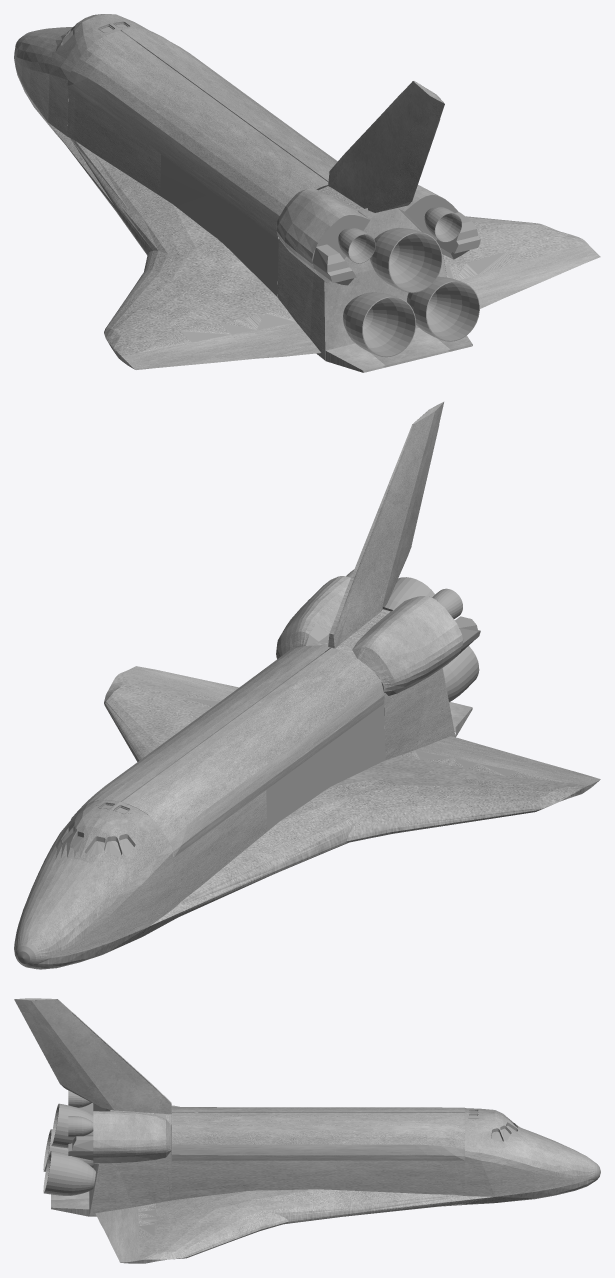
The model's file is STS.obj.
3 renders of one model, top to bottom at view 1: azimuth 30°, elevation 25°; view 2: azimuth 150°, elevation 25°; view 3: azimuth 270°, elevation 25°, orthographic. The views are drawn at different scales.
Parts seen in each view (by area): view 1: Shape_IndexedFaceSet.014_Shape_IndexedFaceSet.048, Shape_IndexedFaceSet.023_Shape_IndexedFaceSet.057, Shape_IndexedFaceSet.003_Shape_IndexedFaceSet.037, Shape_IndexedFaceSet.012_Shape_IndexedFaceSet.046, Shape_IndexedFaceSet.018_Shape_IndexedFaceSet.052, Shape_IndexedFaceSet.028_Shape_IndexedFaceSet.062, Shape_IndexedFaceSet.010_Shape_IndexedFaceSet.044, Shape_IndexedFaceSet.004_Shape_IndexedFaceSet.038, Shape_IndexedFaceSet.007_Shape_IndexedFaceSet.041, Shape_IndexedFaceSet.019_Shape_IndexedFaceSet.053, Shape_IndexedFaceSet.022_Shape_IndexedFaceSet.056, Shape_IndexedFaceSet.020_Shape_IndexedFaceSet.054 (+3 smaller); view 2: Shape_IndexedFaceSet.014_Shape_IndexedFaceSet.048, Shape_IndexedFaceSet.018_Shape_IndexedFaceSet.052, Shape_IndexedFaceSet.023_Shape_IndexedFaceSet.057, Shape_IndexedFaceSet.022_Shape_IndexedFaceSet.056, Shape_IndexedFaceSet.003_Shape_IndexedFaceSet.037, Shape_IndexedFaceSet.010_Shape_IndexedFaceSet.044, Shape_IndexedFaceSet.007_Shape_IndexedFaceSet.041, Shape_IndexedFaceSet.028_Shape_IndexedFaceSet.062, Shape_IndexedFaceSet.004_Shape_IndexedFaceSet.038, Shape_IndexedFaceSet.017_Shape_IndexedFaceSet.051, Shape_IndexedFaceSet.012_Shape_IndexedFaceSet.046, Shape_IndexedFaceSet.009_Shape_IndexedFaceSet.043 (+2 smaller); view 3: Shape_IndexedFaceSet.014_Shape_IndexedFaceSet.048, Shape_IndexedFaceSet.018_Shape_IndexedFaceSet.052, Shape_IndexedFaceSet.023_Shape_IndexedFaceSet.057, Shape_IndexedFaceSet.021_Shape_IndexedFaceSet.055, Shape_IndexedFaceSet.003_Shape_IndexedFaceSet.037, Shape_IndexedFaceSet.004_Shape_IndexedFaceSet.038, Shape_IndexedFaceSet.022_Shape_IndexedFaceSet.056, Shape_IndexedFaceSet.007_Shape_IndexedFaceSet.041, Shape_IndexedFaceSet.012_Shape_IndexedFaceSet.046, Shape_IndexedFaceSet.009_Shape_IndexedFaceSet.043, Shape_IndexedFaceSet.017_Shape_IndexedFaceSet.051, Shape_IndexedFaceSet.028_Shape_IndexedFaceSet.062 (+2 smaller).
Part boxes in pixels (bbox=[...]): Shape_IndexedFaceSet.014_Shape_IndexedFaceSet.048: bbox=[71, 28, 337, 215]; Shape_IndexedFaceSet.023_Shape_IndexedFaceSet.057: bbox=[33, 33, 458, 357]; Shape_IndexedFaceSet.003_Shape_IndexedFaceSet.037: bbox=[121, 101, 557, 341]; Shape_IndexedFaceSet.012_Shape_IndexedFaceSet.046: bbox=[338, 207, 479, 357]; Shape_IndexedFaceSet.018_Shape_IndexedFaceSet.052: bbox=[27, 30, 586, 360]; Shape_IndexedFaceSet.028_Shape_IndexedFaceSet.062: bbox=[120, 244, 600, 369]; Shape_IndexedFaceSet.010_Shape_IndexedFaceSet.044: bbox=[276, 188, 480, 285]; Shape_IndexedFaceSet.004_Shape_IndexedFaceSet.038: bbox=[67, 70, 279, 239]; Shape_IndexedFaceSet.007_Shape_IndexedFaceSet.041: bbox=[318, 81, 444, 212]; Shape_IndexedFaceSet.019_Shape_IndexedFaceSet.053: bbox=[325, 208, 472, 372]; Shape_IndexedFaceSet.022_Shape_IndexedFaceSet.056: bbox=[14, 14, 147, 72]; Shape_IndexedFaceSet.020_Shape_IndexedFaceSet.054: bbox=[324, 208, 446, 360]; Shape_IndexedFaceSet.014_Shape_IndexedFaceSet.048: bbox=[72, 645, 380, 841]; Shape_IndexedFaceSet.018_Shape_IndexedFaceSet.052: bbox=[26, 672, 586, 933]; Shape_IndexedFaceSet.023_Shape_IndexedFaceSet.057: bbox=[51, 668, 449, 925]; Shape_IndexedFaceSet.022_Shape_IndexedFaceSet.056: bbox=[14, 800, 170, 953]; Shape_IndexedFaceSet.003_Shape_IndexedFaceSet.037: bbox=[121, 425, 557, 820]; Shape_IndexedFaceSet.010_Shape_IndexedFaceSet.044: bbox=[352, 596, 480, 695]; Shape_IndexedFaceSet.007_Shape_IndexedFaceSet.041: bbox=[307, 402, 443, 658]; Shape_IndexedFaceSet.028_Shape_IndexedFaceSet.062: bbox=[123, 666, 600, 791]; Shape_IndexedFaceSet.004_Shape_IndexedFaceSet.038: bbox=[71, 681, 384, 857]; Shape_IndexedFaceSet.017_Shape_IndexedFaceSet.051: bbox=[14, 672, 587, 969]; Shape_IndexedFaceSet.012_Shape_IndexedFaceSet.046: bbox=[346, 569, 479, 702]; Shape_IndexedFaceSet.009_Shape_IndexedFaceSet.043: bbox=[276, 576, 423, 695]; Shape_IndexedFaceSet.014_Shape_IndexedFaceSet.048: bbox=[172, 1107, 464, 1149]; Shape_IndexedFaceSet.018_Shape_IndexedFaceSet.052: bbox=[138, 1105, 586, 1263]; Shape_IndexedFaceSet.023_Shape_IndexedFaceSet.057: bbox=[156, 1124, 570, 1203]; Shape_IndexedFaceSet.021_Shape_IndexedFaceSet.055: bbox=[89, 1151, 554, 1216]; Shape_IndexedFaceSet.003_Shape_IndexedFaceSet.037: bbox=[21, 1012, 316, 1252]; Shape_IndexedFaceSet.004_Shape_IndexedFaceSet.038: bbox=[172, 1112, 464, 1160]; Shape_IndexedFaceSet.022_Shape_IndexedFaceSet.056: bbox=[465, 1108, 594, 1176]; Shape_IndexedFaceSet.007_Shape_IndexedFaceSet.041: bbox=[14, 998, 171, 1124]; Shape_IndexedFaceSet.012_Shape_IndexedFaceSet.046: bbox=[43, 1090, 95, 1195]; Shape_IndexedFaceSet.009_Shape_IndexedFaceSet.043: bbox=[93, 1111, 171, 1163]; Shape_IndexedFaceSet.017_Shape_IndexedFaceSet.051: bbox=[72, 1140, 597, 1263]; Shape_IndexedFaceSet.028_Shape_IndexedFaceSet.062: bbox=[95, 1203, 155, 1263].
Size of the model in its own units: 3.68 by 2.18 by 5.78.
